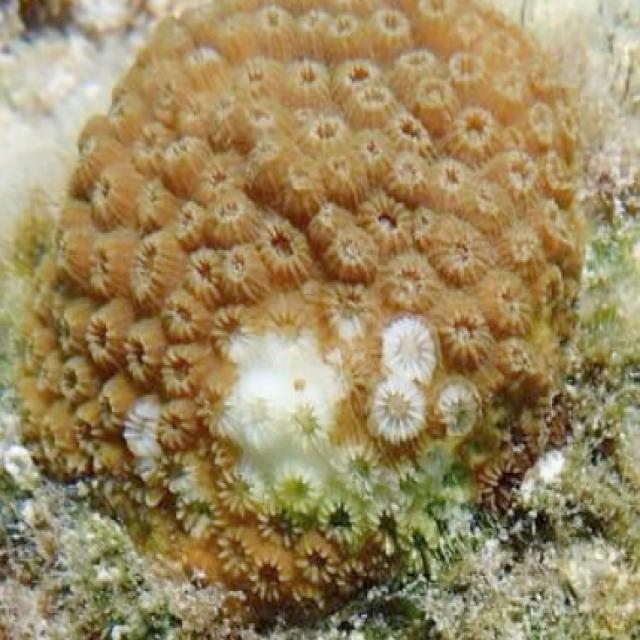Coral: (12, 0, 588, 626)
